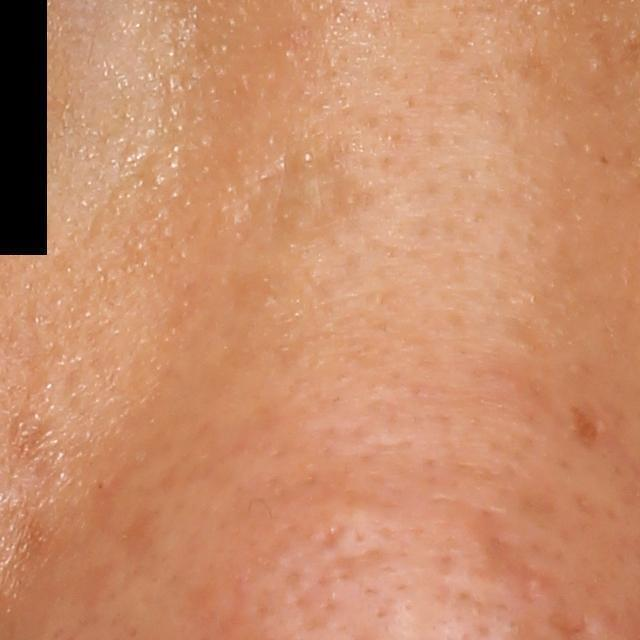atrophic_scar: (469, 517, 561, 611), (312, 545, 403, 587)
